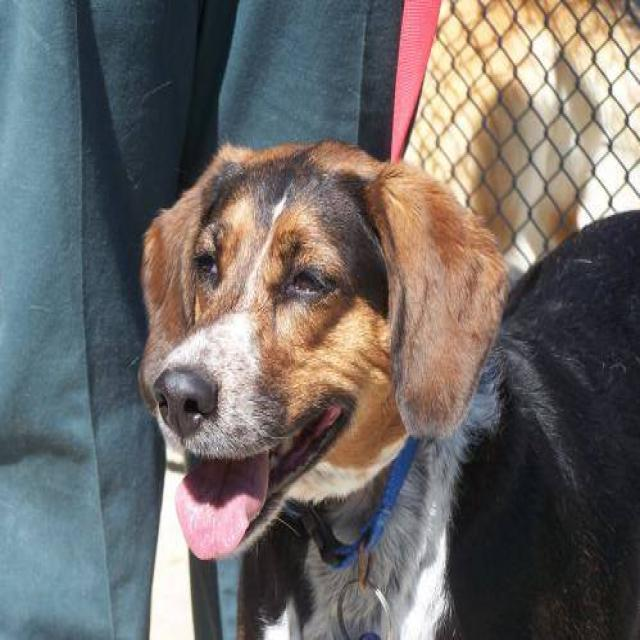dog: (136, 135, 639, 638)
